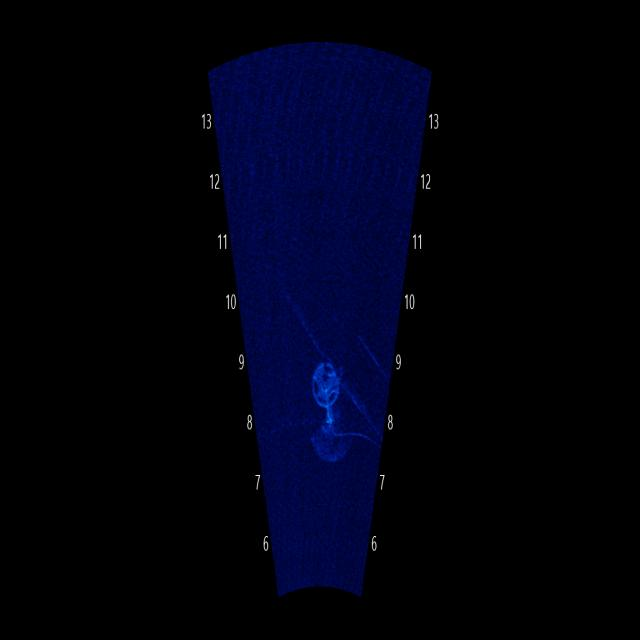circle: (300, 338, 359, 421)
